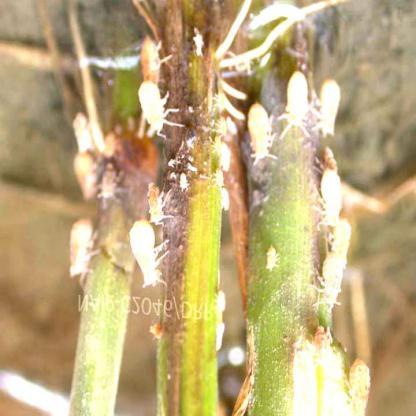brown-planthopper: (122, 220, 164, 290), (136, 79, 174, 136), (64, 214, 95, 278), (247, 98, 276, 164), (317, 167, 346, 227), (284, 66, 310, 128), (320, 247, 344, 304), (145, 180, 167, 222), (211, 164, 226, 190), (264, 244, 278, 271), (213, 287, 227, 312), (190, 33, 204, 58), (213, 91, 226, 110), (216, 114, 228, 134), (179, 172, 189, 192)
